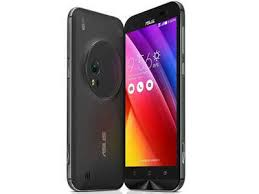asus: (62, 3, 125, 190), (124, 1, 185, 190)
